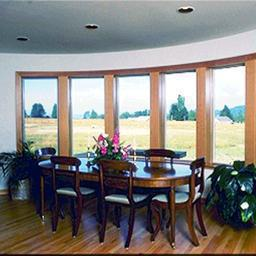Matera: (210, 165, 255, 224), (2, 145, 33, 197)
Ventana: (201, 63, 253, 161), (153, 68, 201, 156), (109, 70, 153, 147), (17, 73, 63, 142), (63, 75, 107, 141)
